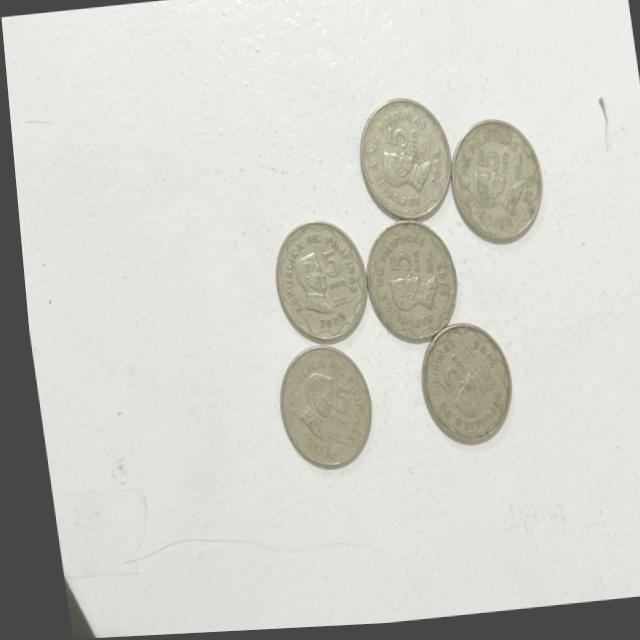5_Old_Front: (312, 380, 359, 437), (424, 350, 467, 408), (311, 245, 350, 306), (375, 123, 424, 159), (471, 148, 517, 186), (378, 252, 420, 286)
